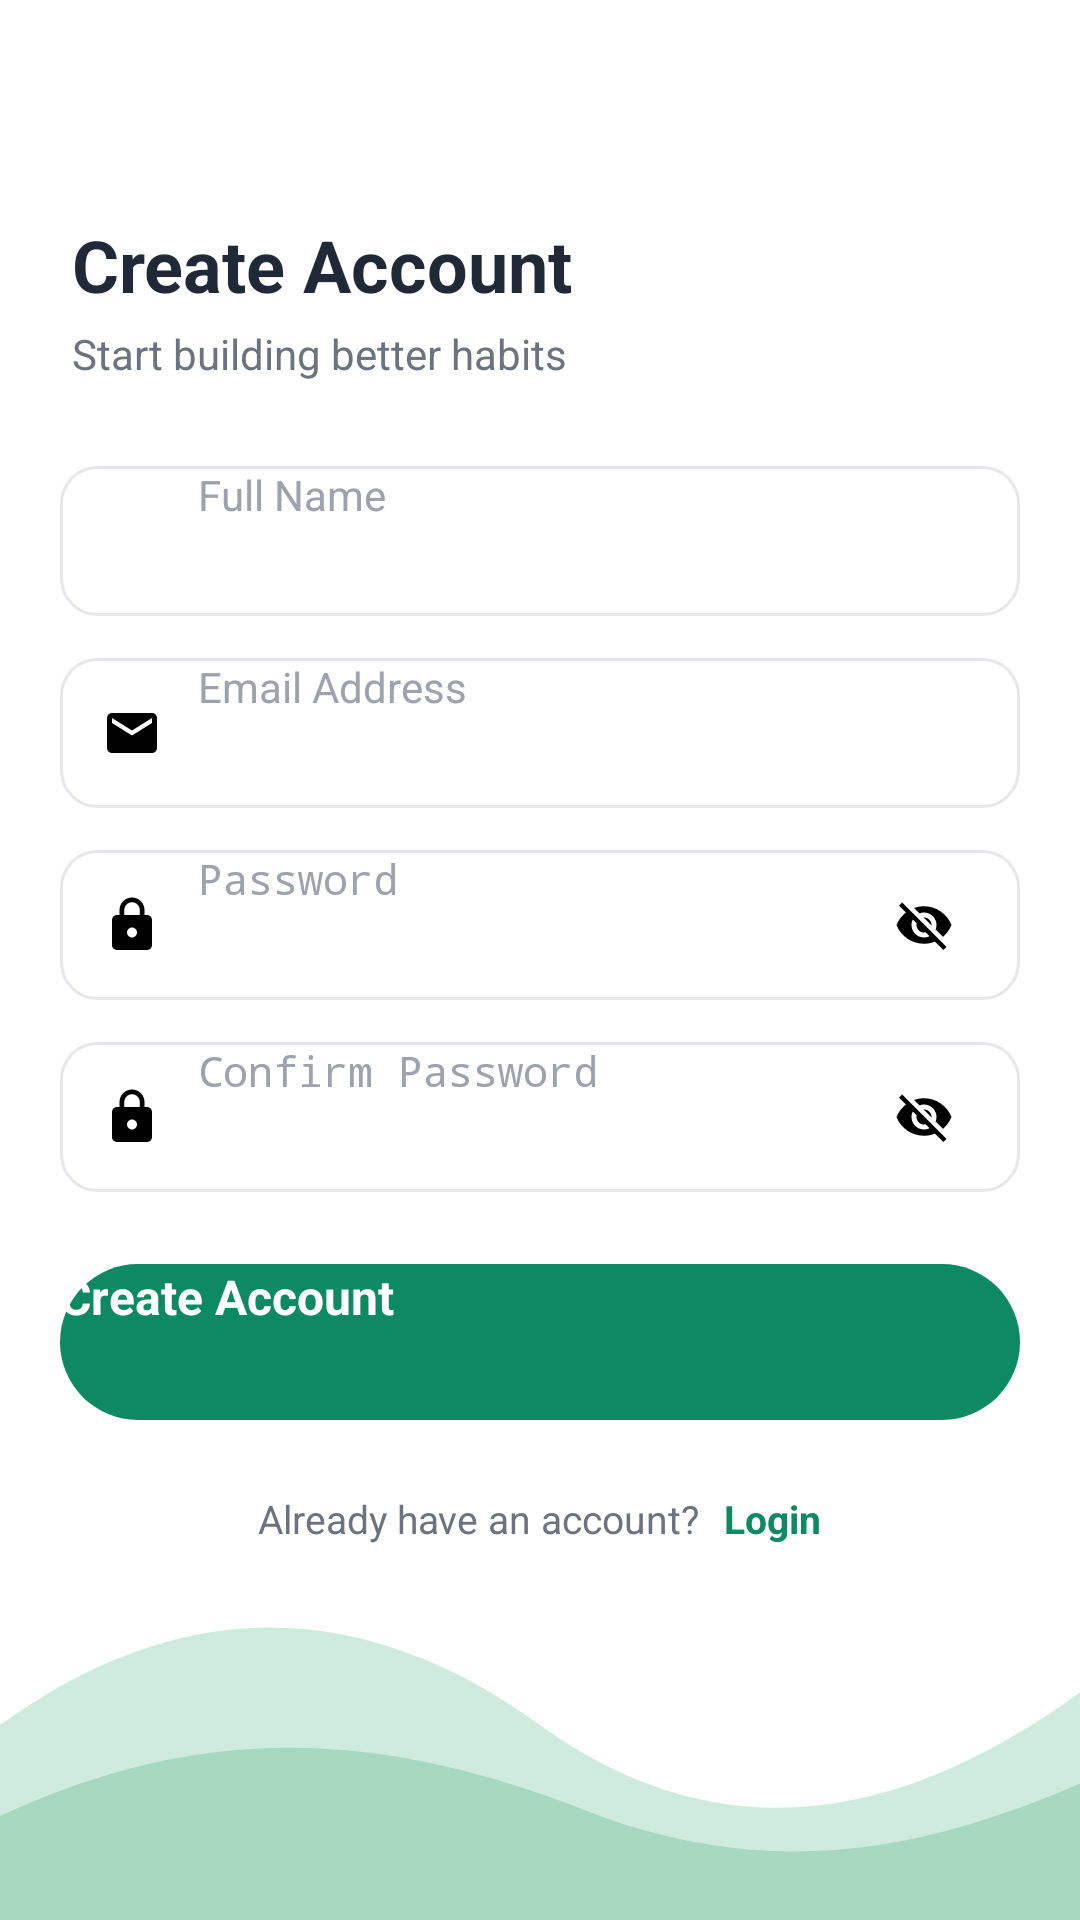

Locate icon controls on the screen. Image size 1080*1920, boxes as (x1, y1, x2, y2).
eye off: (896, 902, 952, 950), (896, 1094, 952, 1142)
lock: (112, 897, 152, 950), (112, 1089, 152, 1142)
